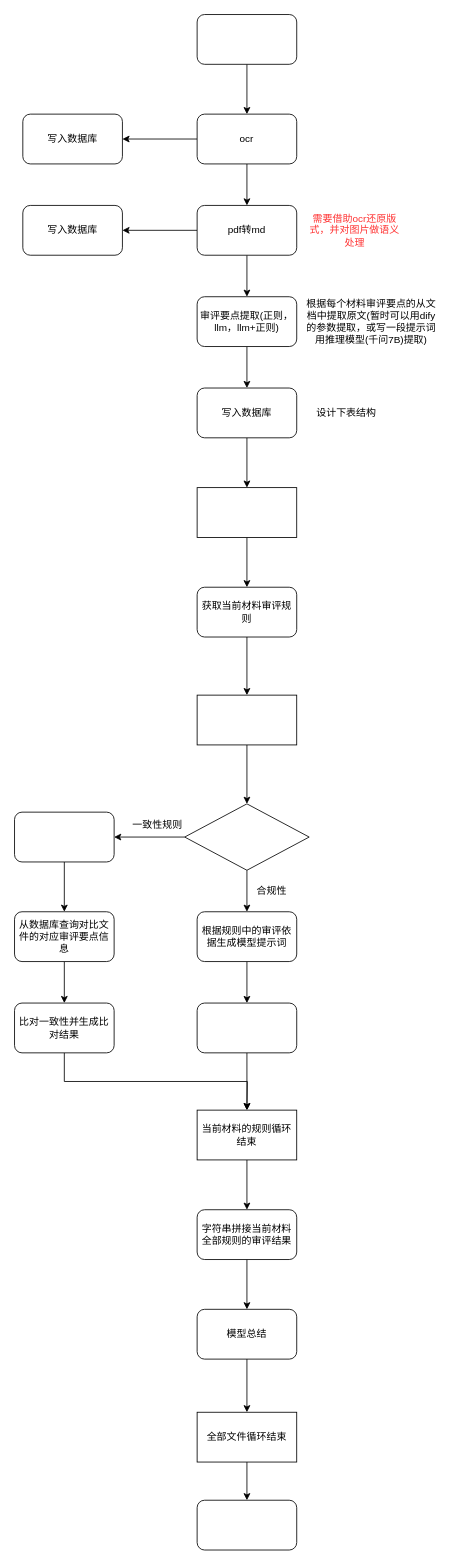
Image size: 452x1565. Some labels were removed from this diagram. Each missing label, with the centre of its shape:
判断和哪个文件做对比: the point at 64,836
判断规则类型: the point at 246,836
按材料循环: the point at 246,512
按规则循环: the point at 246,719
文件获取: the point at 246,39
生成审评结果: the point at 246,1524
调用模型获取审评结果: the point at 246,1027
